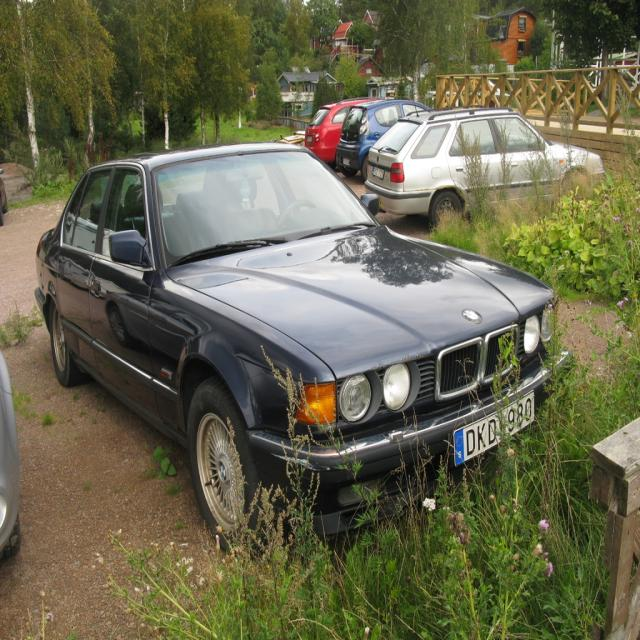Passenger Car: (34, 145, 576, 553), (364, 109, 606, 234), (336, 101, 366, 179), (304, 92, 332, 166)
